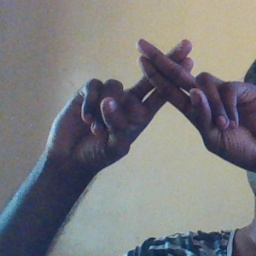F: (87, 25, 236, 141)
